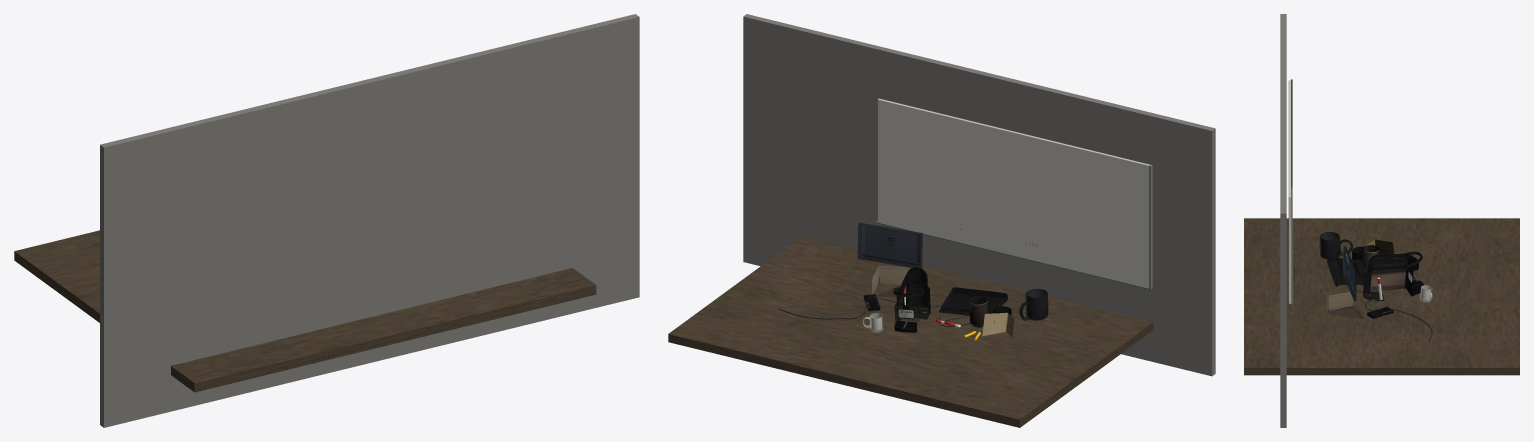
File: viga.glb
3 renders of one model, left to right at view 1: azimuth 30°, elevation 25°; view 2: azimuth 150°, elevation 25°; view 3: azimuth 270°, elevation 25°, orthographic. The views are drawn at different scales.
Visible parts, largest first — view 1: Wall, Desktop; view 2: Wall, Desktop, Whiteboard panel, computer_monitor_mesh, black_coffee_machine_mesh, black_keyboard_mesh, gray_baseball_cap_mesh, brown_cardboard_box_mesh, Lower board frame, open_cardboard_box_mesh, black_coffee_mug_mesh; view 3: Desktop, Wall, black_coffee_machine_mesh, brown_cardboard_box_mesh, Whiteboard panel, black_keyboard_mesh, gray_baseball_cap_mesh, computer_monitor_mesh, black_coffee_mug_mesh.
Part boxes in pixels (x1,y1,x2,y2): Wall: (100,14,639,427); Desktop: (14,230,596,392); Wall: (743,14,1215,376); Desktop: (668,236,1153,427); Whiteboard panel: (877,98,1152,287); computer_monitor_mesh: (857,222,922,268); black_coffee_machine_mesh: (892,266,930,332); black_keyboard_mesh: (939,287,1007,315); gray_baseball_cap_mesh: (1019,289,1048,320); brown_cardboard_box_mesh: (872,265,909,297); Lower board frame: (875,221,1152,289); open_cardboard_box_mesh: (982,312,1014,337); black_coffee_mug_mesh: (969,296,989,327); Desktop: (1244,218,1519,375); Wall: (1280,14,1286,427); black_coffee_machine_mesh: (1363,251,1423,301); brown_cardboard_box_mesh: (1327,292,1363,318); Whiteboard panel: (1288,80,1290,303); black_keyboard_mesh: (1327,256,1365,286); gray_baseball_cap_mesh: (1319,232,1352,259); computer_monitor_mesh: (1342,246,1356,301); black_coffee_mug_mesh: (1362,244,1388,271).
Bounding box in the file's own units: 6 × 3 × 3.5.
Materials: 24 (12 with a texture image).
